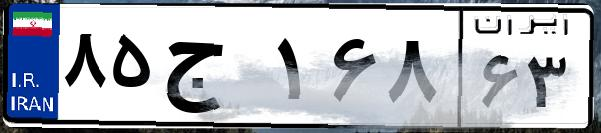1: (270, 28, 330, 110)
3: (525, 38, 570, 115)
5: (110, 28, 158, 98)
6: (330, 28, 385, 110), (475, 38, 525, 113)
8: (385, 28, 445, 110), (57, 26, 110, 100)
ج: (158, 20, 270, 120)
